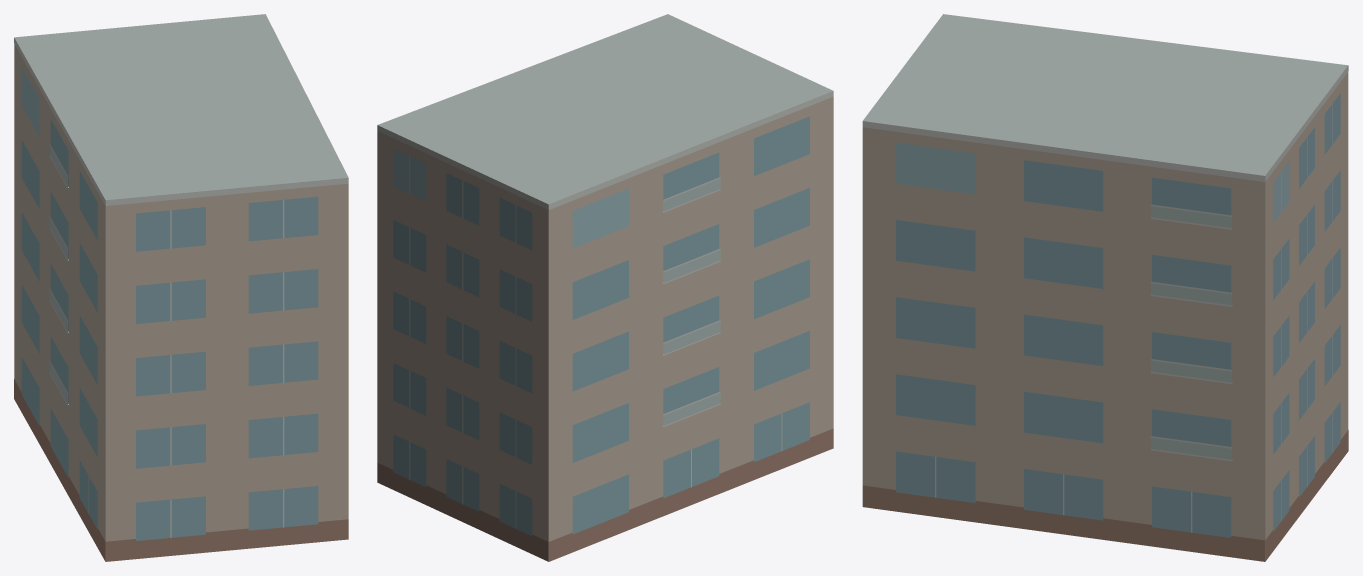
File: survey-upis-32639042.glb
3 renders of one model, left to right at view 1: azimuth 30°, elevation 25°; view 2: azimuth 150°, elevation 25°; view 3: azimuth 270°, elevation 25°, orthographic. The views are drawn at different scales.
Parts seen in each view (by area): view 1: survey-upis-32639042.tmp; view 2: survey-upis-32639042.tmp; view 3: survey-upis-32639042.tmp.
Part boxes in pixels (left/top/right/bottom): survey-upis-32639042.tmp: left=14, top=14, right=348, bottom=561; survey-upis-32639042.tmp: left=377, top=14, right=833, bottom=561; survey-upis-32639042.tmp: left=862, top=14, right=1348, bottom=561.
Size of the model in its own units: 13.73 by 15.25 by 17.41.
